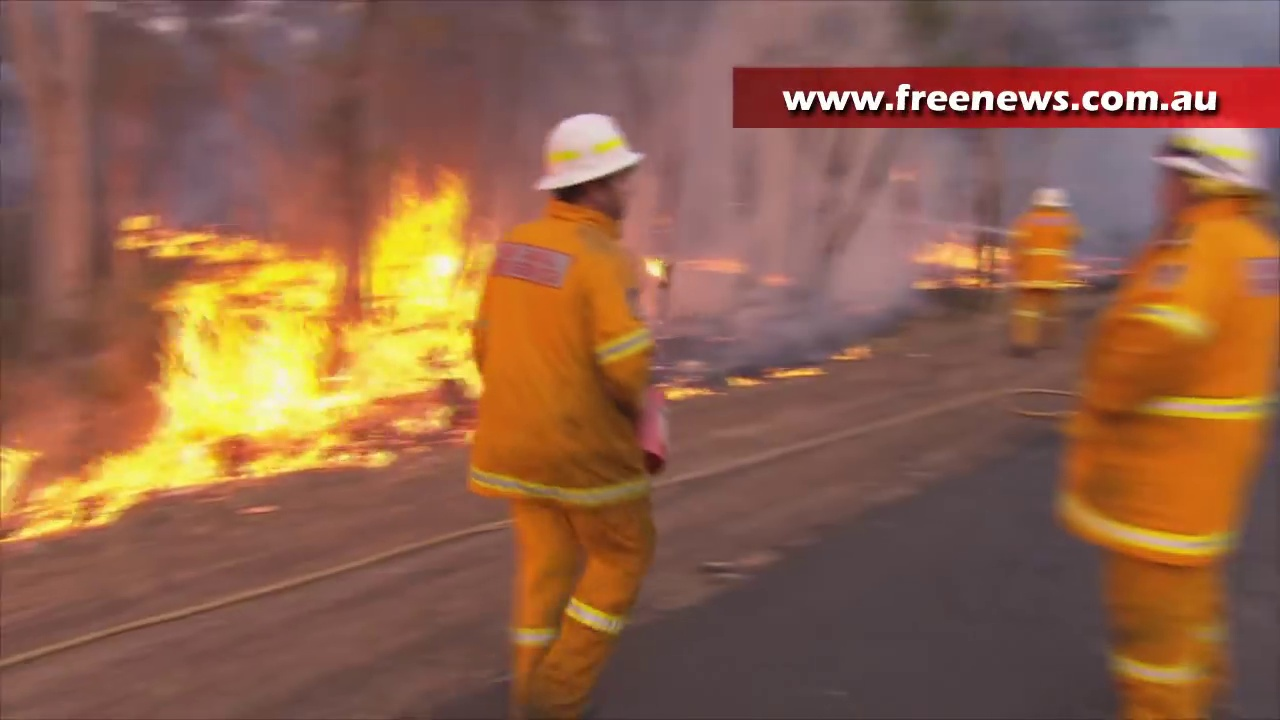fire: (1, 170, 488, 543)
